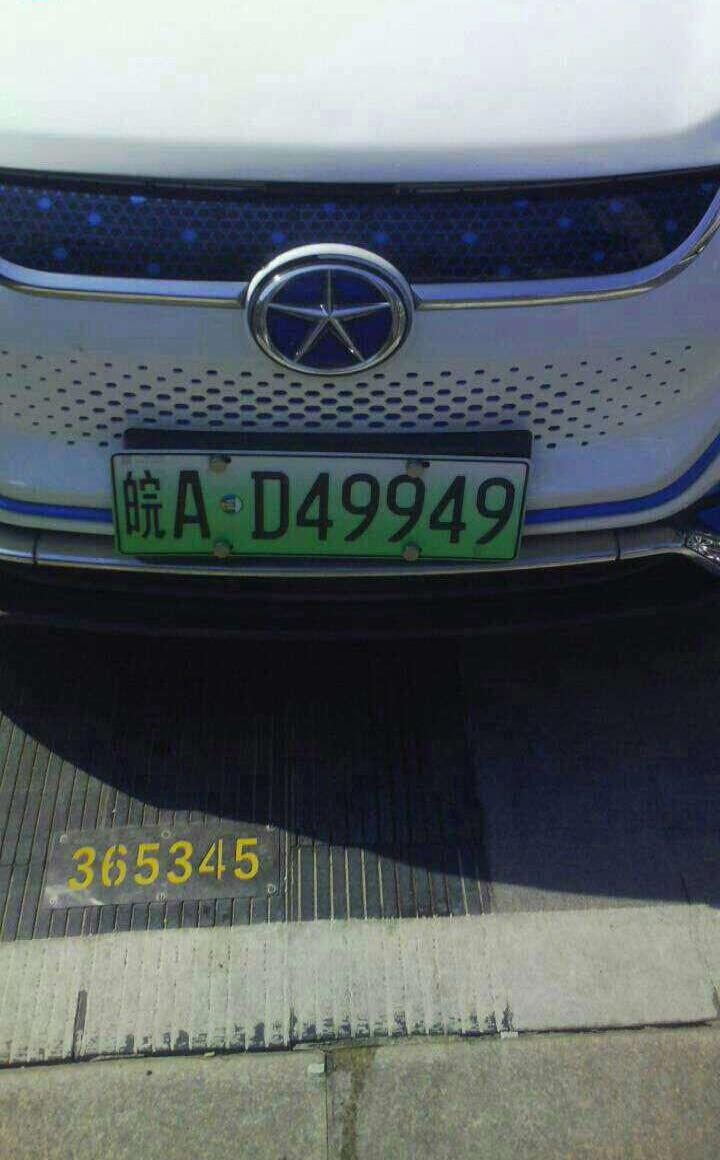car_id: (102, 448, 526, 560)
